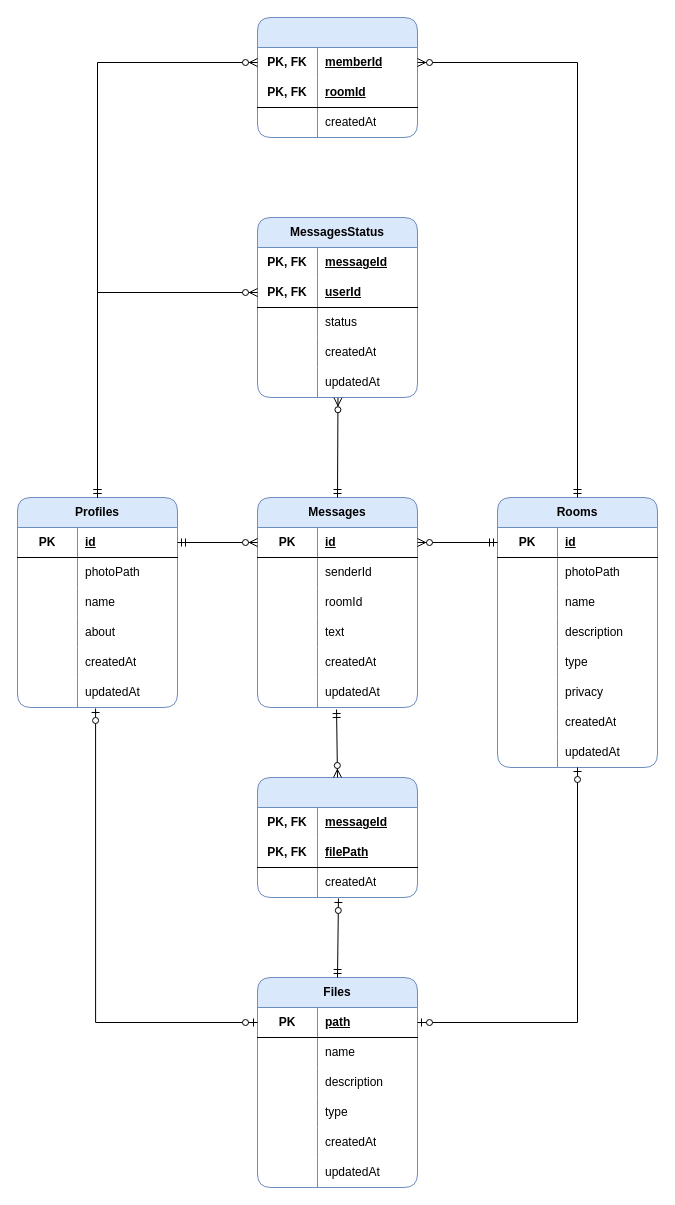
Image size: 675x1205. Some labels were removed from this diagram. The box of each missing label's shape, as (x1, y1, x2, y2) in pixels:
MembersRooms: (256, 16, 418, 138)
MessagesFiles: (256, 776, 418, 898)
